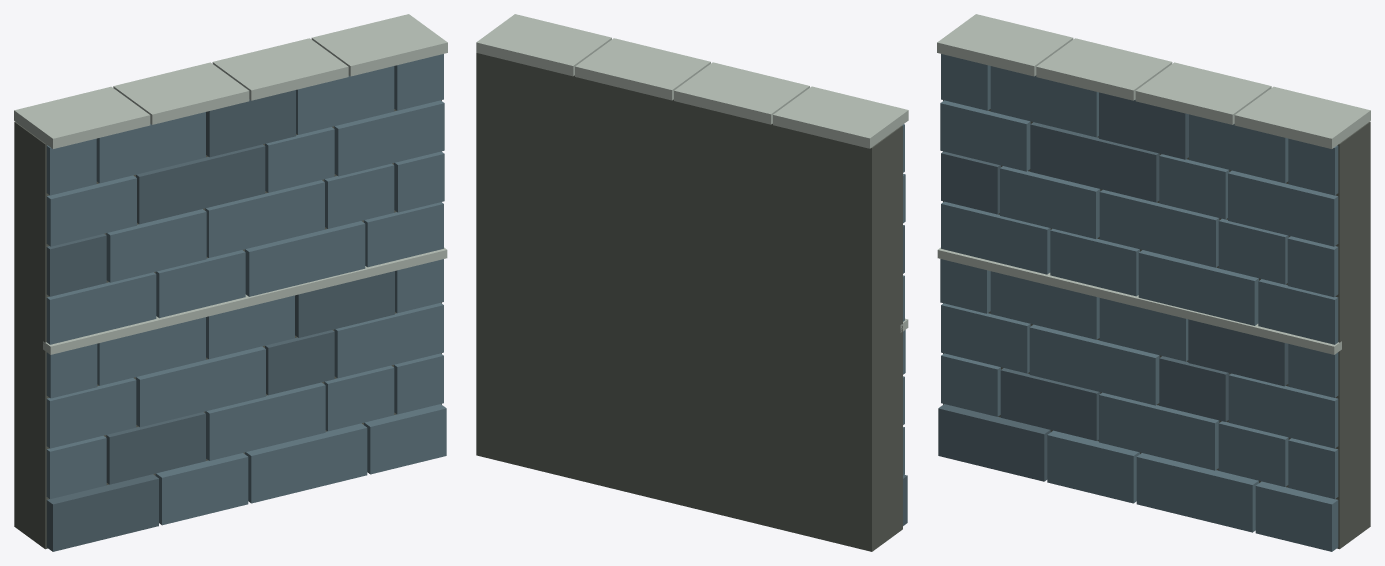
The model's file is retaining_wall_4x4.glb.
3 renders of one model, left to right at view 1: azimuth 30°, elevation 25°; view 2: azimuth 150°, elevation 25°; view 3: azimuth 330°, elevation 25°, orthographic.
Visible parts, largest first — view 1: RetainingWall4X4 / Stone, RetainingWall4X4 / StoneShade, RetainingWall4X4 / Coping, RetainingWall4X4 / Rock; view 2: RetainingWall4X4 / Rock, RetainingWall4X4 / Coping, RetainingWall4X4 / Stone; view 3: RetainingWall4X4 / Stone, RetainingWall4X4 / StoneShade, RetainingWall4X4 / Coping, RetainingWall4X4 / Rock.
Boxes of the visible parts, <box> form: RetainingWall4X4 / Stone: <box>46,54,446,525</box>; RetainingWall4X4 / StoneShade: <box>46,90,394,551</box>; RetainingWall4X4 / Coping: <box>14,14,447,354</box>; RetainingWall4X4 / Rock: <box>14,100,441,549</box>; RetainingWall4X4 / Rock: <box>476,53,902,551</box>; RetainingWall4X4 / Coping: <box>476,14,908,332</box>; RetainingWall4X4 / Stone: <box>902,124,905,475</box>; RetainingWall4X4 / Stone: <box>940,54,1338,551</box>; RetainingWall4X4 / StoneShade: <box>938,92,1288,481</box>; RetainingWall4X4 / Coping: <box>937,14,1370,354</box>; RetainingWall4X4 / Rock: <box>943,100,1370,549</box>.
Size of the model in its own units: 4 by 4 by 0.68.
